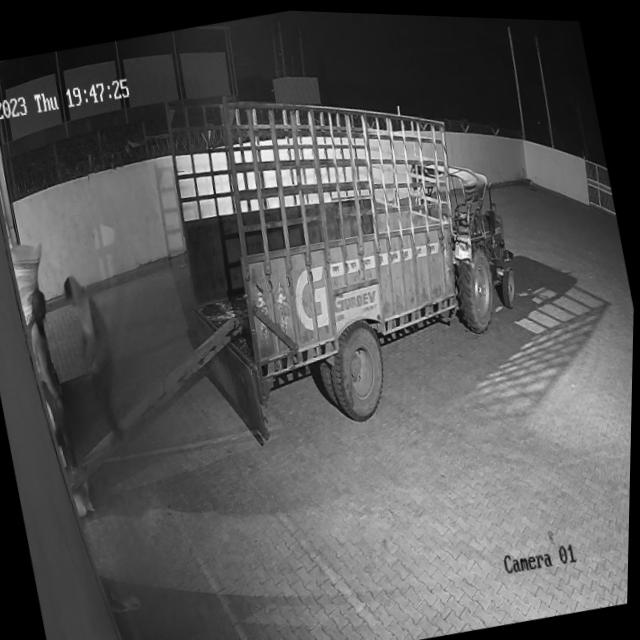sack: (7, 237, 60, 328)
